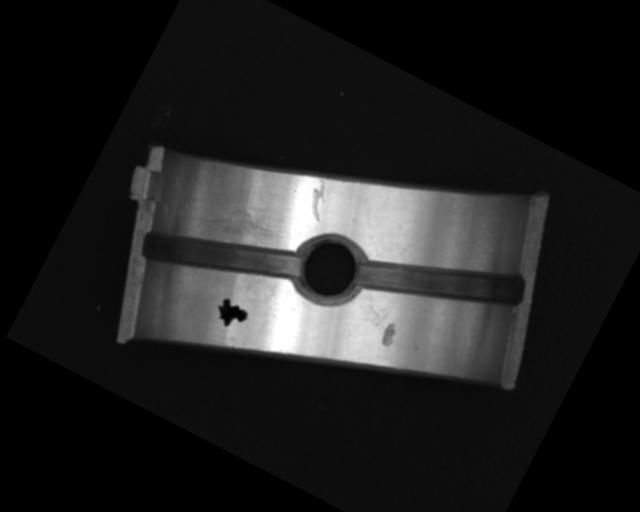blot: (210, 295, 252, 334)
bruise: (377, 320, 402, 350)
gap: (352, 210, 528, 353), (138, 193, 302, 322)
hole: (283, 226, 369, 313)
nick: (300, 176, 338, 223)
scratch: (189, 188, 287, 268)
